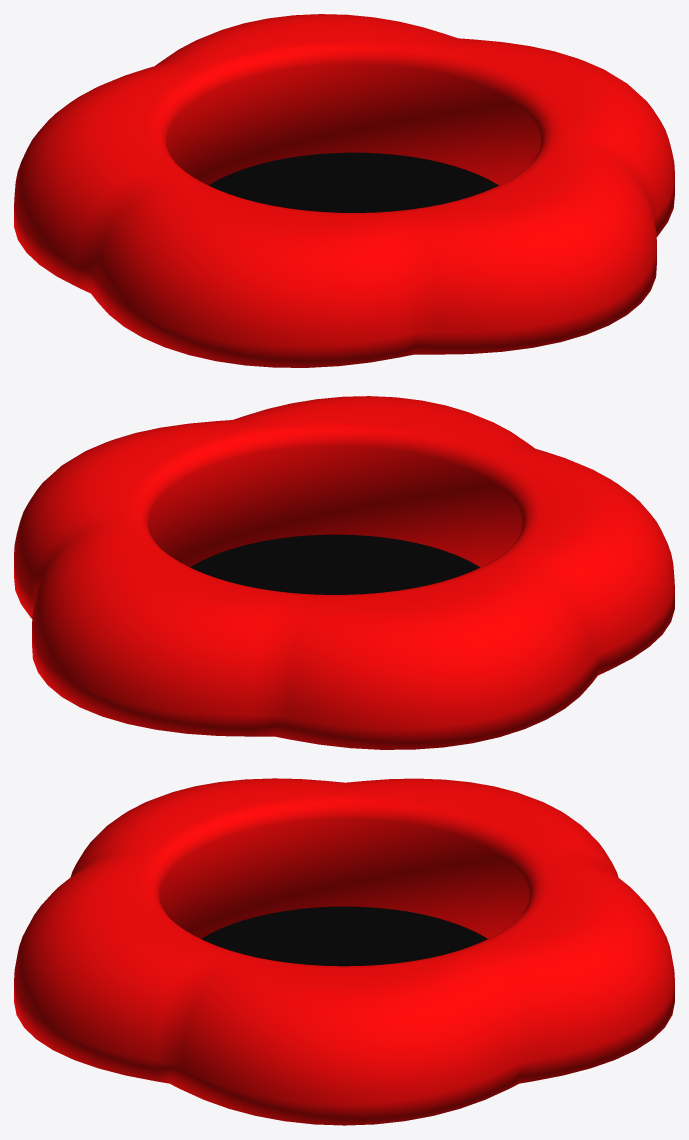
The model's file is cong tron (2).fbx.
3 renders of one model, top to bottom at view 1: azimuth 30°, elevation 25°; view 2: azimuth 150°, elevation 25°; view 3: azimuth 270°, elevation 25°, orthographic.
Visible parts, largest first — view 1: hoa, matphang; view 2: hoa, matphang; view 3: hoa, matphang.
Part boxes in pixels (x1,y1,x2,y2): hoa: [14, 14, 674, 367]; matphang: [209, 152, 498, 212]; hoa: [14, 396, 674, 749]; matphang: [190, 534, 480, 594]; hoa: [14, 778, 674, 1125]; matphang: [201, 906, 487, 966].
Bounding box in the file's own units: 58.42 × 10 × 59.53.
